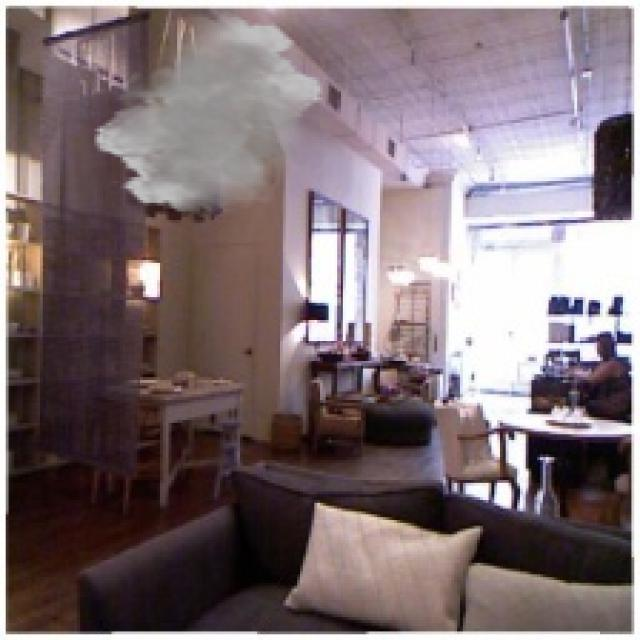Smoke: (91, 11, 326, 218)
